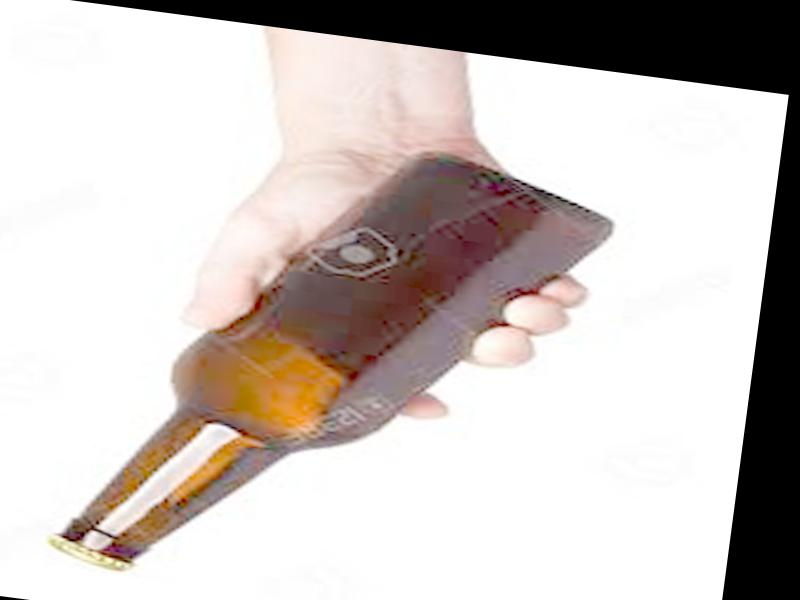Beer: (43, 110, 615, 600)
